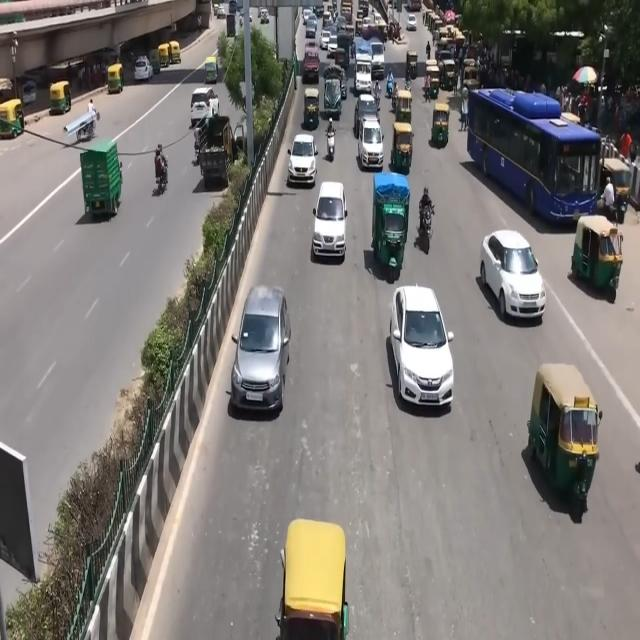auto: (528, 362, 601, 504), (571, 213, 623, 296), (598, 146, 633, 213), (390, 120, 414, 174), (0, 98, 24, 138), (431, 102, 450, 148), (303, 88, 320, 130), (394, 88, 412, 124), (438, 56, 456, 90), (425, 60, 441, 97), (462, 60, 479, 92), (406, 49, 418, 79)
bike-auto: (416, 176, 433, 253), (154, 143, 168, 190), (193, 126, 204, 164), (326, 118, 335, 158), (373, 80, 381, 109)
